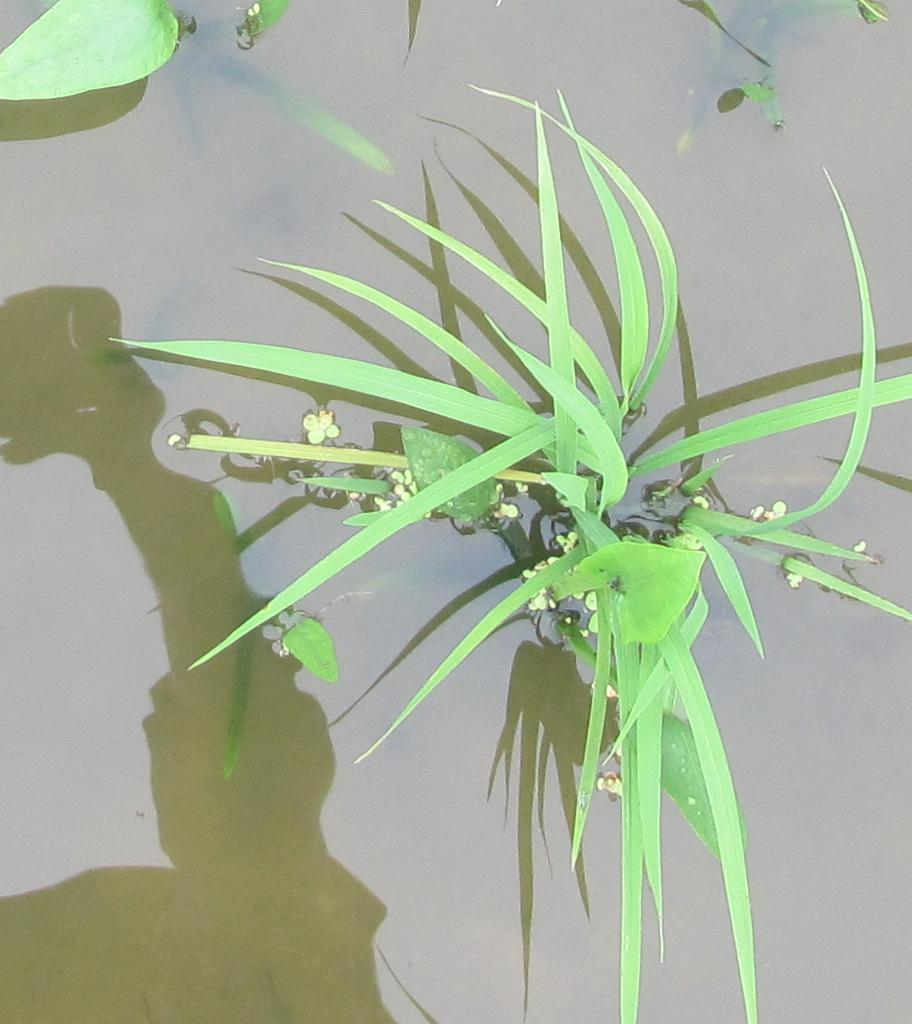Weed: (550, 524, 705, 644), (7, 7, 185, 100), (402, 430, 505, 538)
